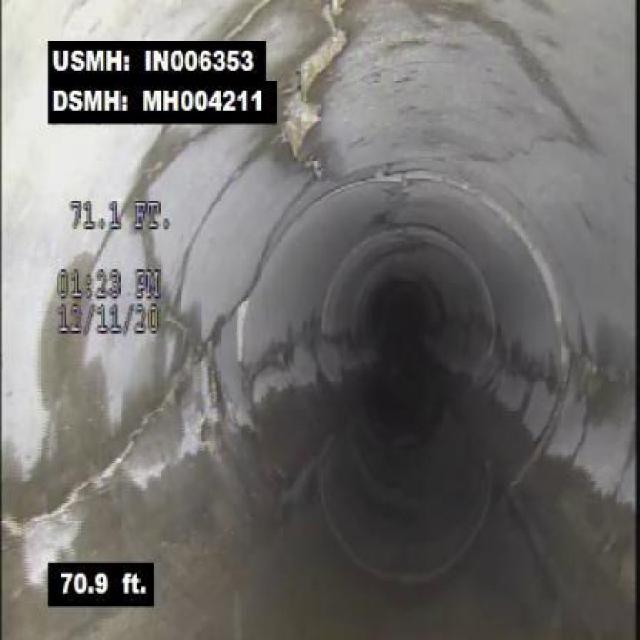Buckling: (282, 8, 358, 184)
Crack: (23, 357, 199, 529), (171, 157, 255, 300), (574, 346, 632, 391)
